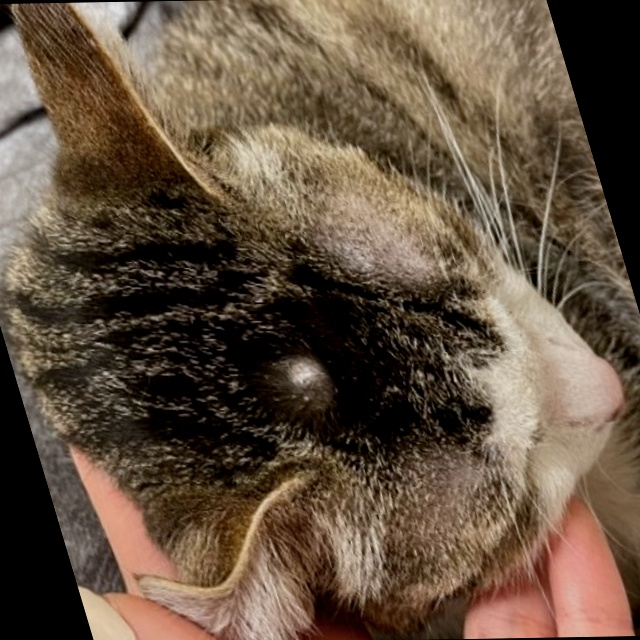lump_and_bump: (277, 347, 341, 399)
